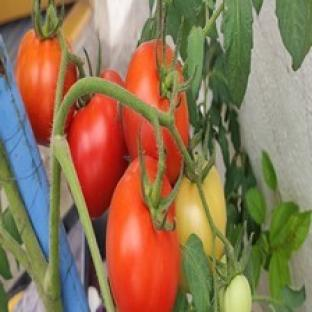Tomato: (106, 158, 179, 311), (67, 94, 128, 218), (16, 30, 61, 144), (175, 176, 224, 259), (126, 41, 169, 111), (219, 275, 252, 311)
